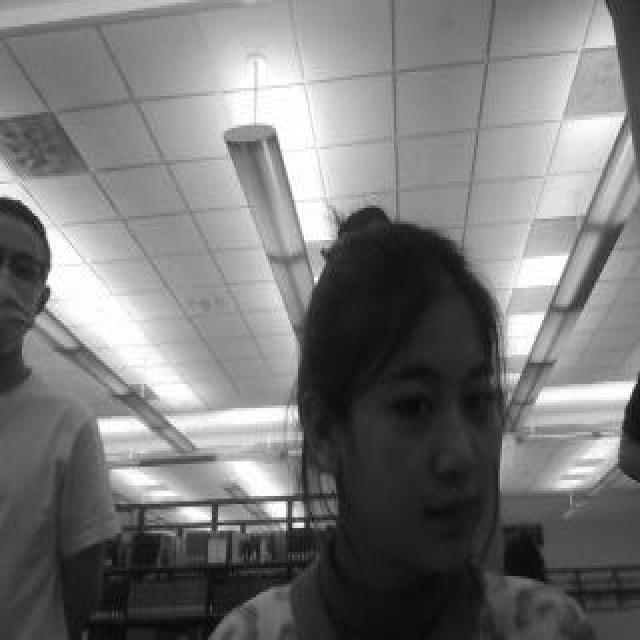Focused: (332, 276, 504, 593)
